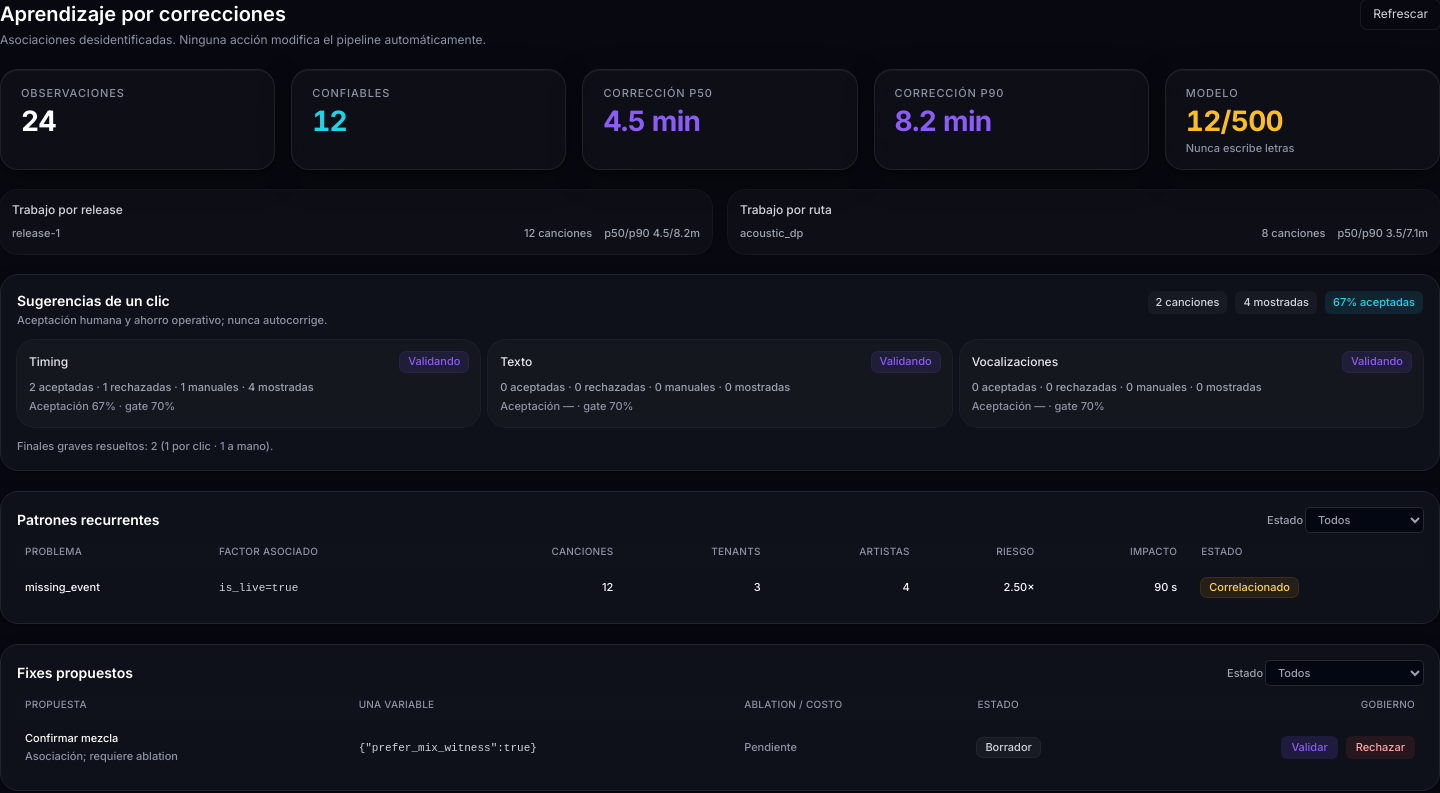
Scenario: QualityLearningPanel › surfaces governed action failures without losing the panel
The image size is (1440, 793).
What coordinates should you click on to do the following:
click the button "Validar"
I would click on:
 (1310, 748)
Its box is [1281,736,1338,760].
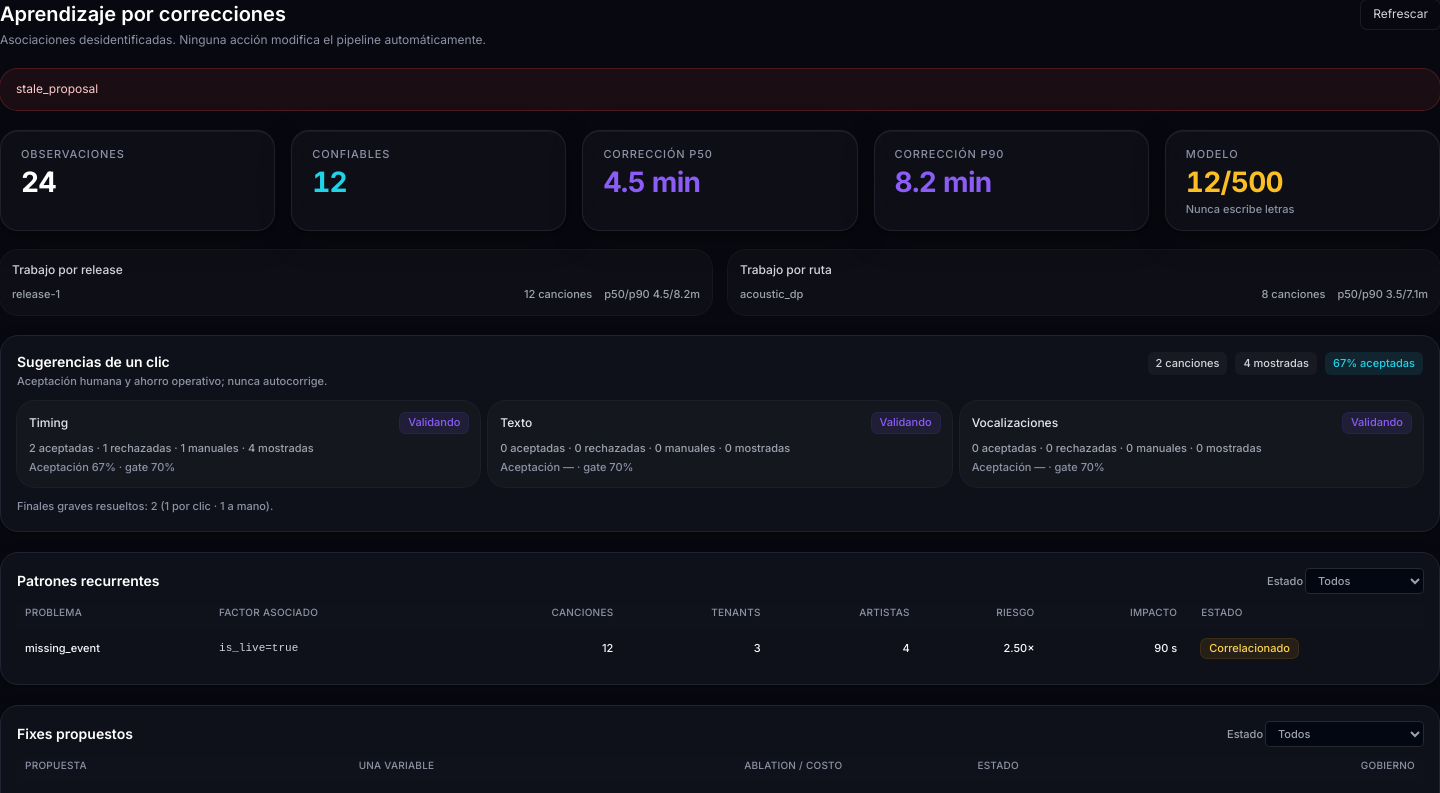
Expected: the message "stale_proposal" is shown, [0,69,1439,110]
